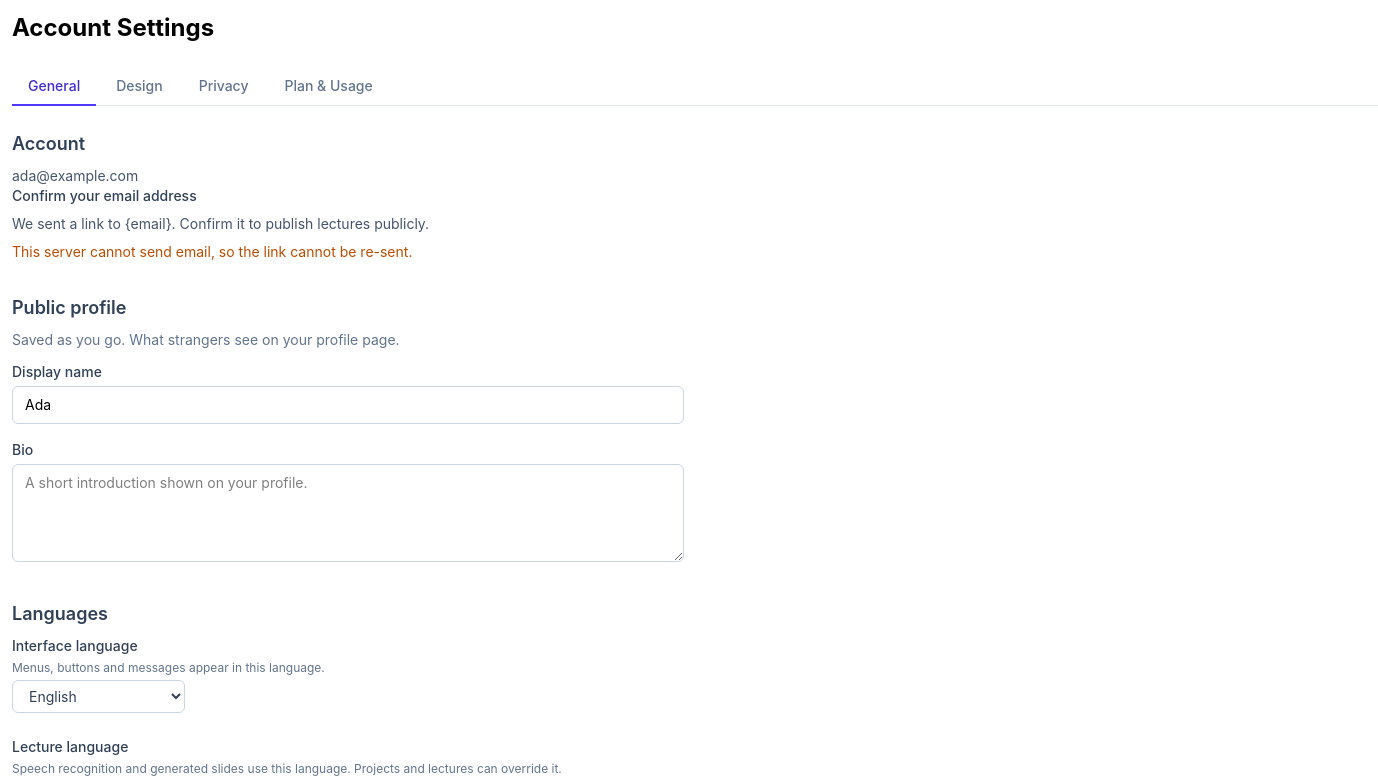
Test case: AccountSettingsPage › shows account details on General and the tier on Plan
The width and height of the screenshot is (1378, 780).
Expected: the text "ada@example.com" is shown, [12,167,138,184]
Expected: the text "Free" is not shown
Click the tab "Plan & Usage".
click(329, 87)  # box [268,68,389,106]
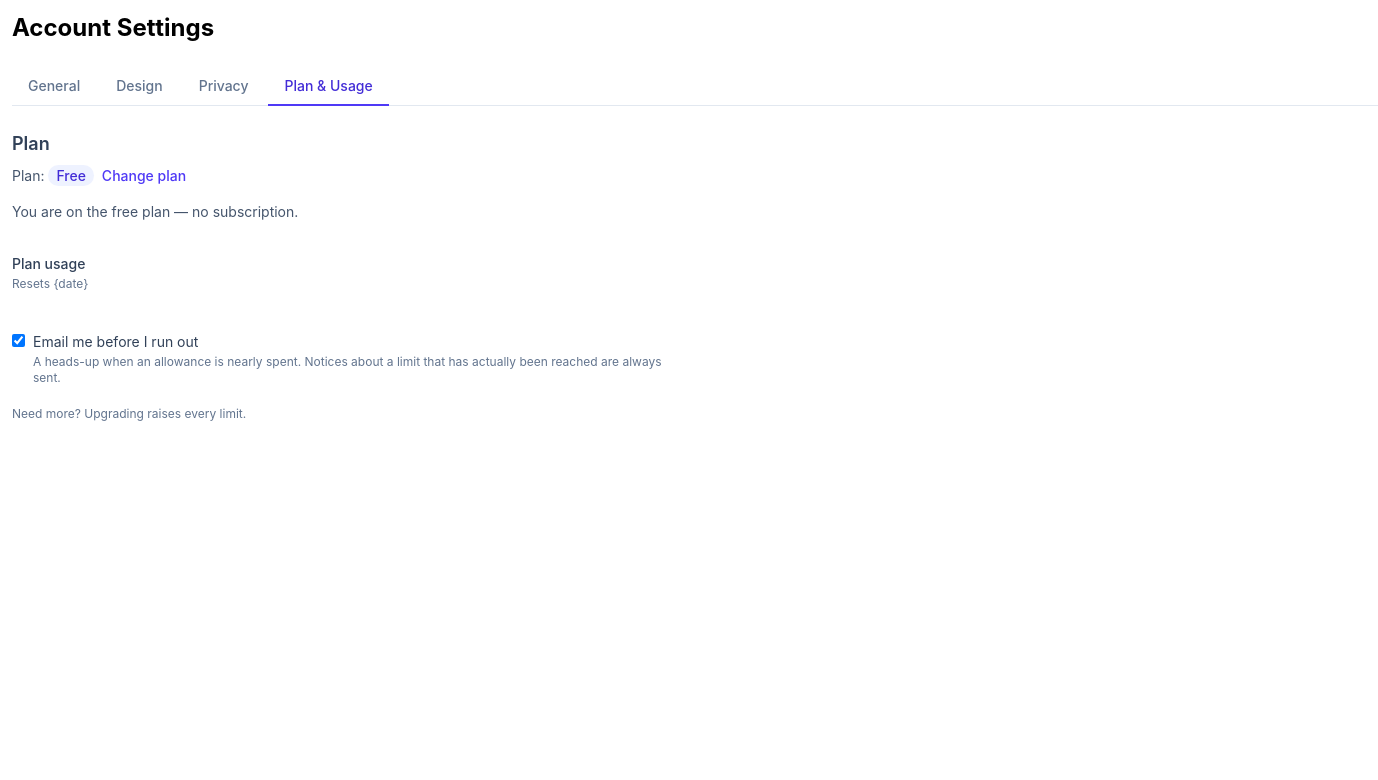
Expected: the text "Free" is shown, [48,165,94,186]
